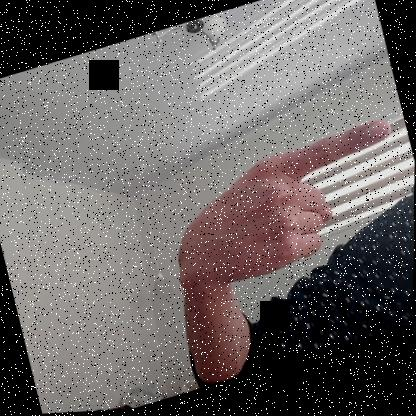G: (157, 121, 415, 300)
